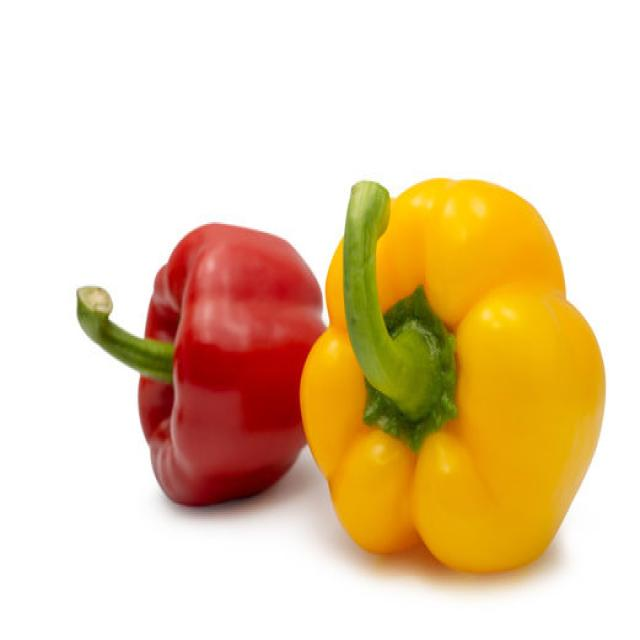Bell Pepper: (298, 175, 606, 572), (75, 218, 325, 506)
